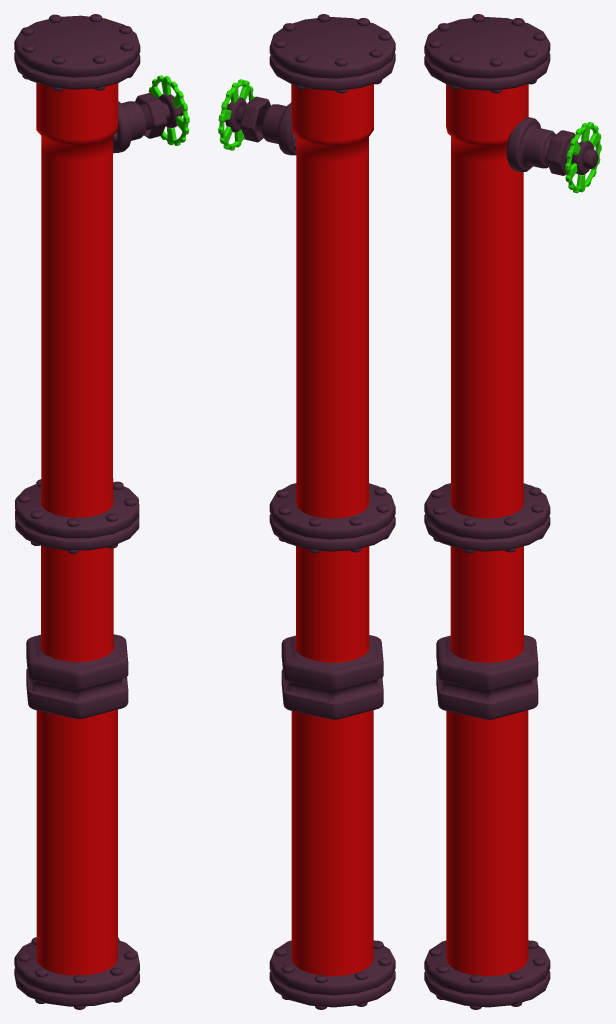
Rendered from LP_M_Pipes_LineBig.fbx.
3 views of the same model, side by side, from view 1: azimuth 30°, elevation 25°; view 2: azimuth 150°, elevation 25°; view 3: azimuth 330°, elevation 25° (orthographic).
Parts seen in each view (by area): view 1: LP_M_Pipes_LineBig; view 2: LP_M_Pipes_LineBig; view 3: LP_M_Pipes_LineBig.
Boxes of the visible parts, <box> form: LP_M_Pipes_LineBig: <box>14,14,189,1009</box>; LP_M_Pipes_LineBig: <box>218,14,395,1009</box>; LP_M_Pipes_LineBig: <box>424,14,601,1009</box>.
Bounding box in the file's own units: 72.14 × 407 × 49.04.
